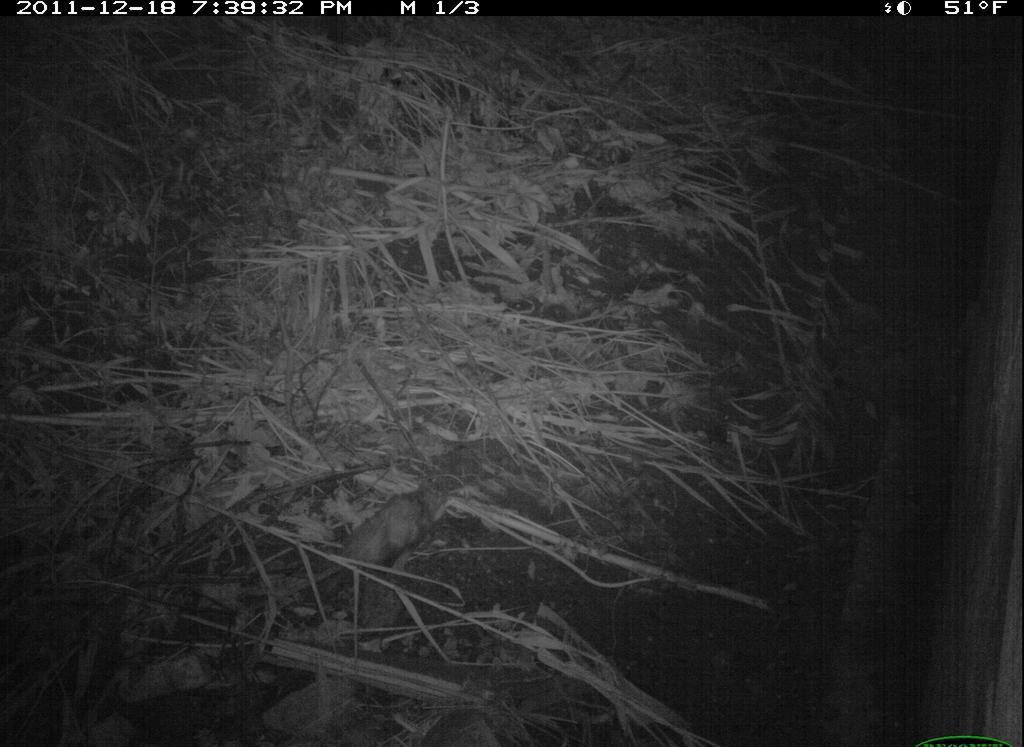opossum: (311, 472, 463, 589)
